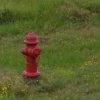Hydrant: (16, 26, 44, 87)
